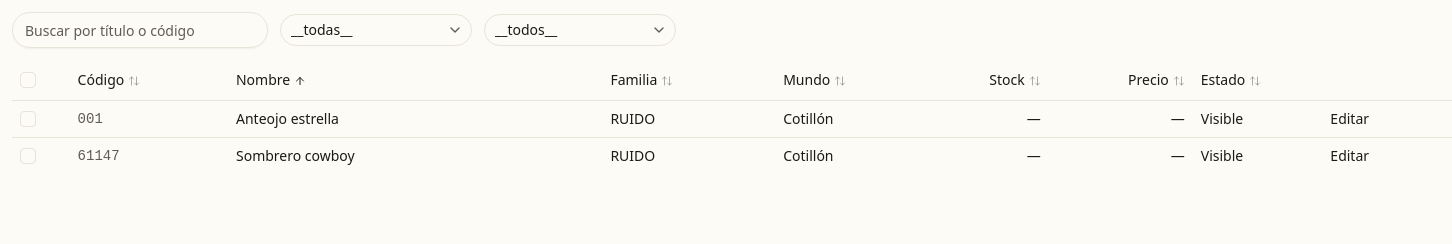
Scenario: PublicadoTab — lote: sacar de uso › manda publicado:false a los ids seleccionados en un solo update
The image size is (1452, 244).
Expected: the row "001 Anteojo estrella RUIDO Cotillón — — Visible Editar" is shown, [12,100,1451,137]
Step 1. Click the checkbox named "Seleccionar todos" → click(28, 80), box [20,72,36,88]
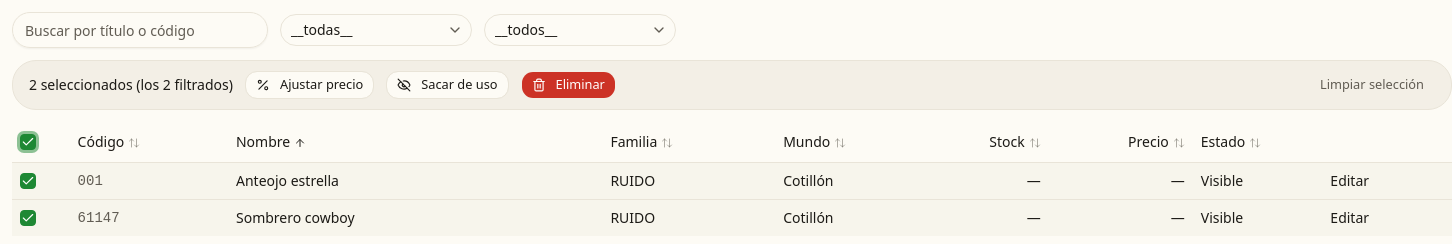
Step 2. Click the button "Sacar de uso" → click(447, 85), box [386,71,508,99]
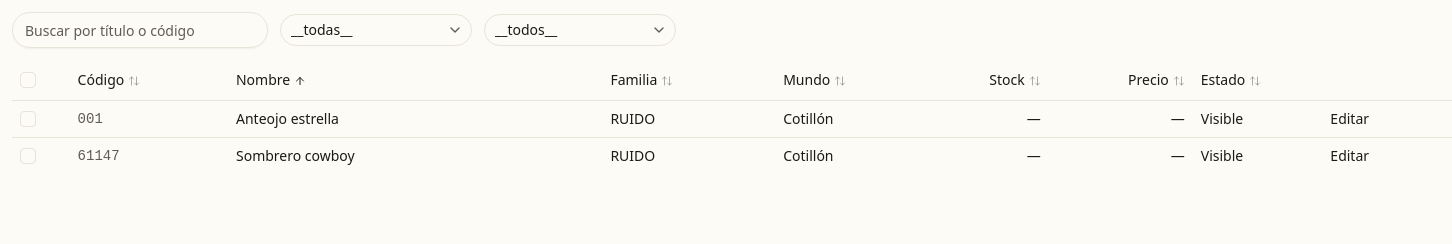
Now the text "seleccionado" is gone
